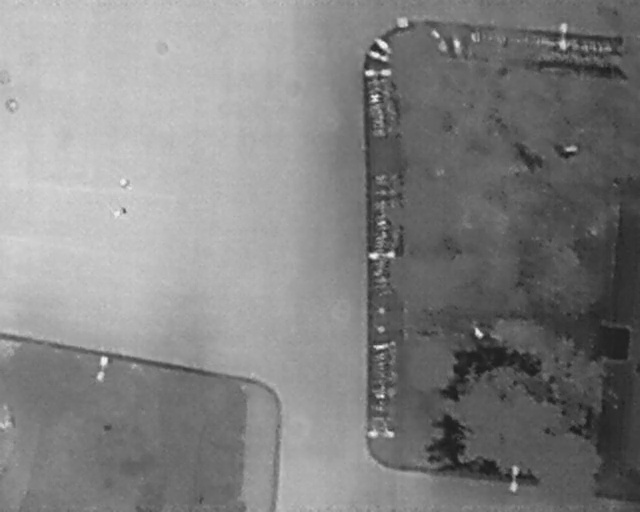Bicycle: (370, 32, 396, 56), (365, 49, 392, 64), (365, 67, 391, 76)
